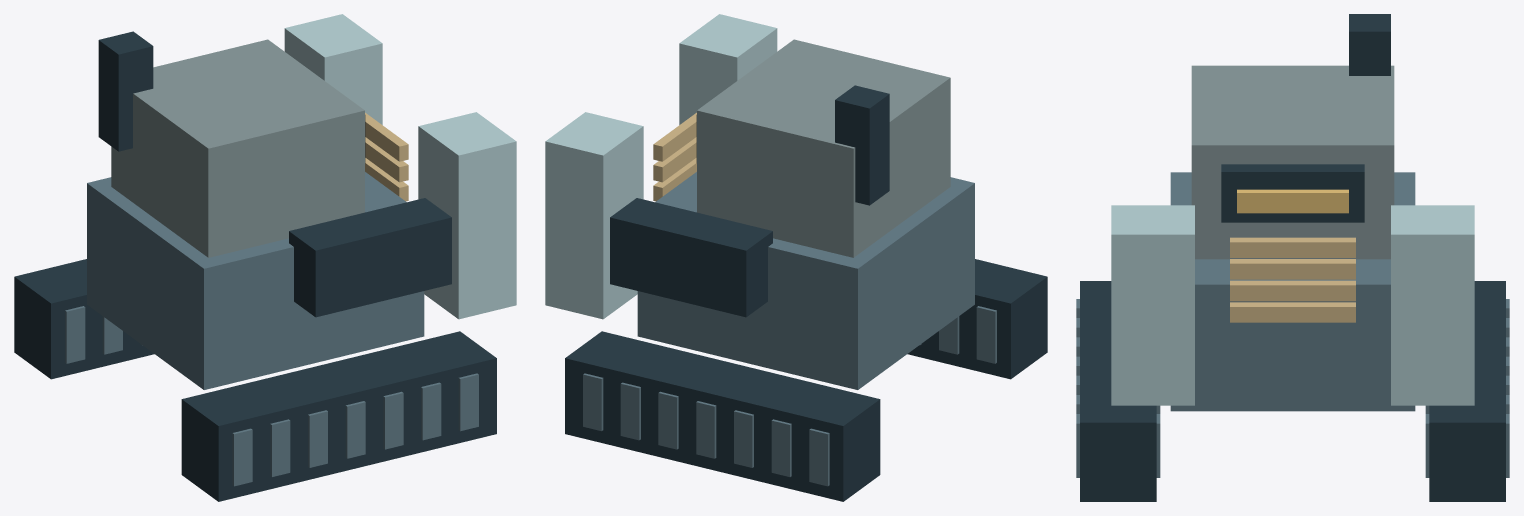
File: settlement-leader.glb
The picture shows the model from 3 angles, left to right: view 1: azimuth 30°, elevation 25°; view 2: azimuth 150°, elevation 25°; view 3: azimuth 270°, elevation 25°; orthographic projection. The views are drawn at different scales.
Visible parts, largest first — view 1: UpperHull, Tracks, Chassis, ToolClamps, ToolArms, TreadRibs, Exhaust, Nameplates; view 2: UpperHull, Tracks, Chassis, ToolClamps, ToolArms, TreadRibs, Exhaust, Nameplates; view 3: ToolClamps, UpperHull, Chassis, Tracks, Nameplates, OpticHousing, OpticLens, Exhaust, TreadRibs.
Part boxes in pixels (box(x1,y1,x2,y2)): UpperHull: box(111, 39, 364, 257); Tracks: box(14, 259, 496, 501); Chassis: box(87, 172, 424, 389); ToolClamps: box(284, 14, 516, 319); ToolArms: box(289, 198, 451, 317); TreadRibs: box(65, 306, 478, 486); Exhaust: box(98, 31, 153, 151); Nameplates: box(365, 112, 408, 201); UpperHull: box(697, 39, 950, 257); Tracks: box(565, 259, 1047, 501); Chassis: box(637, 172, 974, 389); ToolClamps: box(545, 14, 777, 319); ToolArms: box(610, 198, 772, 317); TreadRibs: box(583, 306, 996, 486); Exhaust: box(835, 85, 889, 205); Nameplates: box(653, 112, 696, 201); ToolClamps: box(1111, 205, 1474, 405); UpperHull: box(1191, 65, 1394, 259); Chassis: box(1170, 172, 1415, 411); Tracks: box(1080, 281, 1505, 501); Nameplates: box(1230, 237, 1355, 322); OpticHousing: box(1221, 164, 1364, 222); OpticLens: box(1237, 189, 1348, 213); Exhaust: box(1349, 14, 1390, 75); TreadRibs: box(1076, 299, 1509, 477).
Size of the model in its own units: 5.4 by 5.7 by 6.2.
